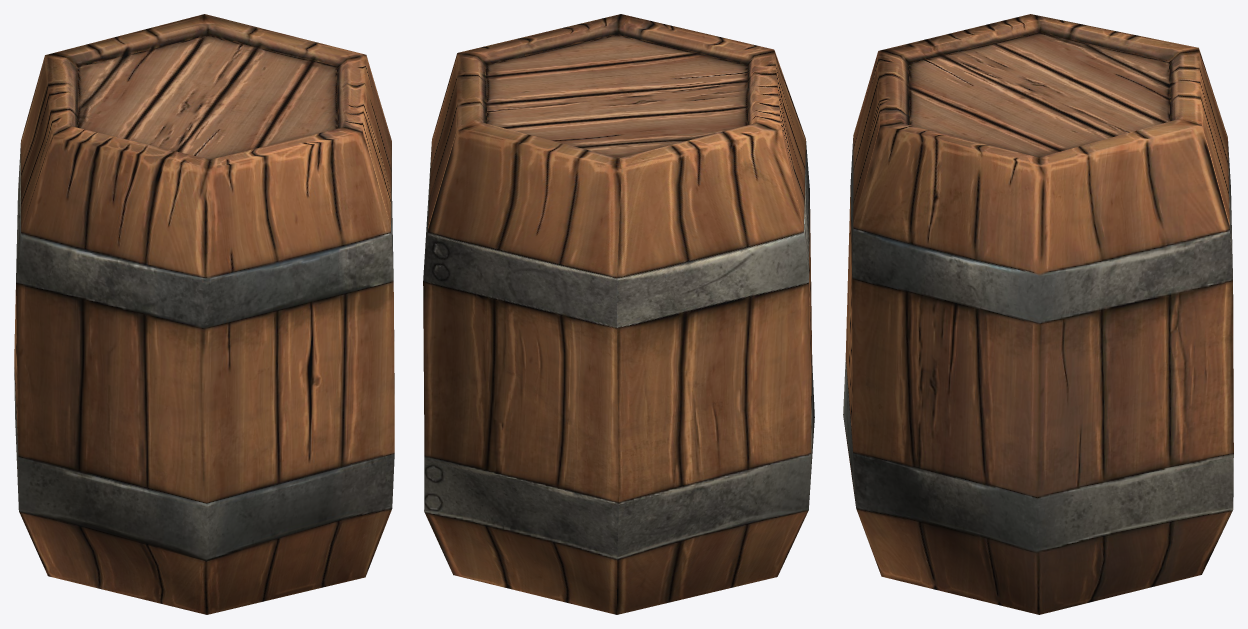
Rendered from barrel_obj.obj.
3 renders of one model, left to right at view 1: azimuth 30°, elevation 25°; view 2: azimuth 150°, elevation 25°; view 3: azimuth 270°, elevation 25°, orthographic.
Visible parts, largest first — view 1: barrel; view 2: barrel; view 3: barrel.
Part boxes in pixels (x1=…): barrel: x1=14, y1=14, x2=394, y2=614; barrel: x1=423, y1=14, x2=814, y2=614; barrel: x1=843, y1=14, x2=1233, y2=614.
Size of the model in its own units: 89.08 by 102 by 79.58.
